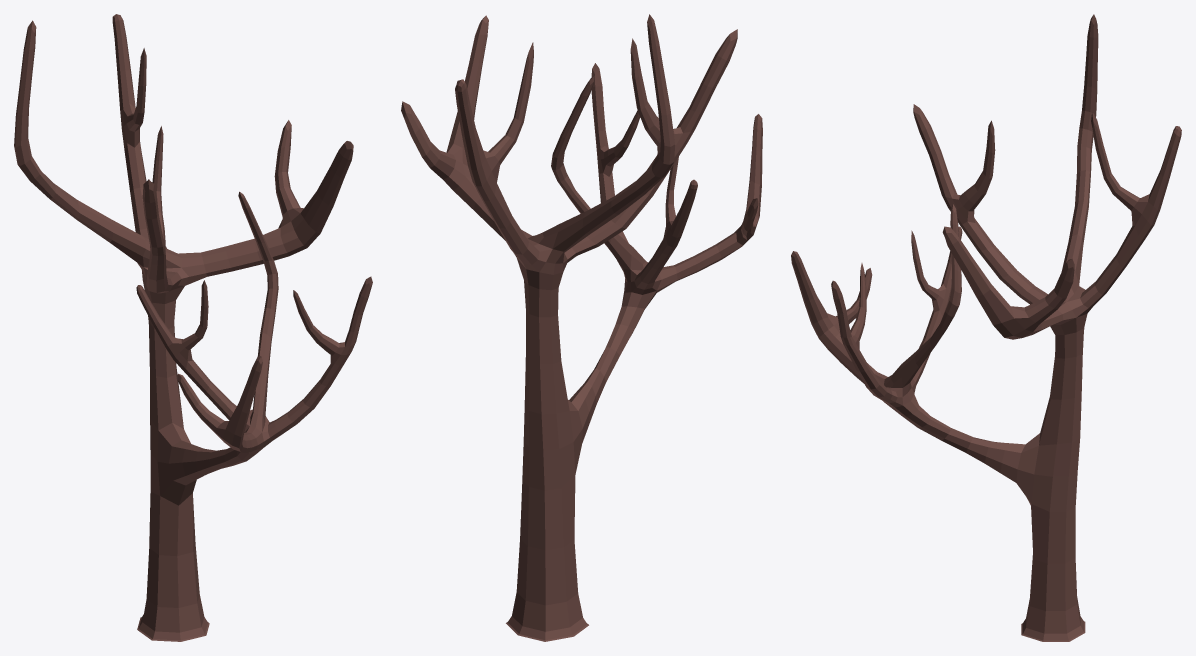
The picture shows the model from 3 angles, left to right: view 1: azimuth 30°, elevation 25°; view 2: azimuth 150°, elevation 25°; view 3: azimuth 270°, elevation 25°; orthographic projection. The views are drawn at different scales.
Parts seen in each view (by area): view 1: CommonTree_Dead_2; view 2: CommonTree_Dead_2; view 3: CommonTree_Dead_2.
Boxes of the visible parts, box(x1,y1,x2,y2) form: CommonTree_Dead_2: box(14, 14, 372, 641); CommonTree_Dead_2: box(401, 14, 762, 641); CommonTree_Dead_2: box(791, 14, 1181, 641).
Size of the model in its own units: 1.33 by 2.96 by 1.86.
